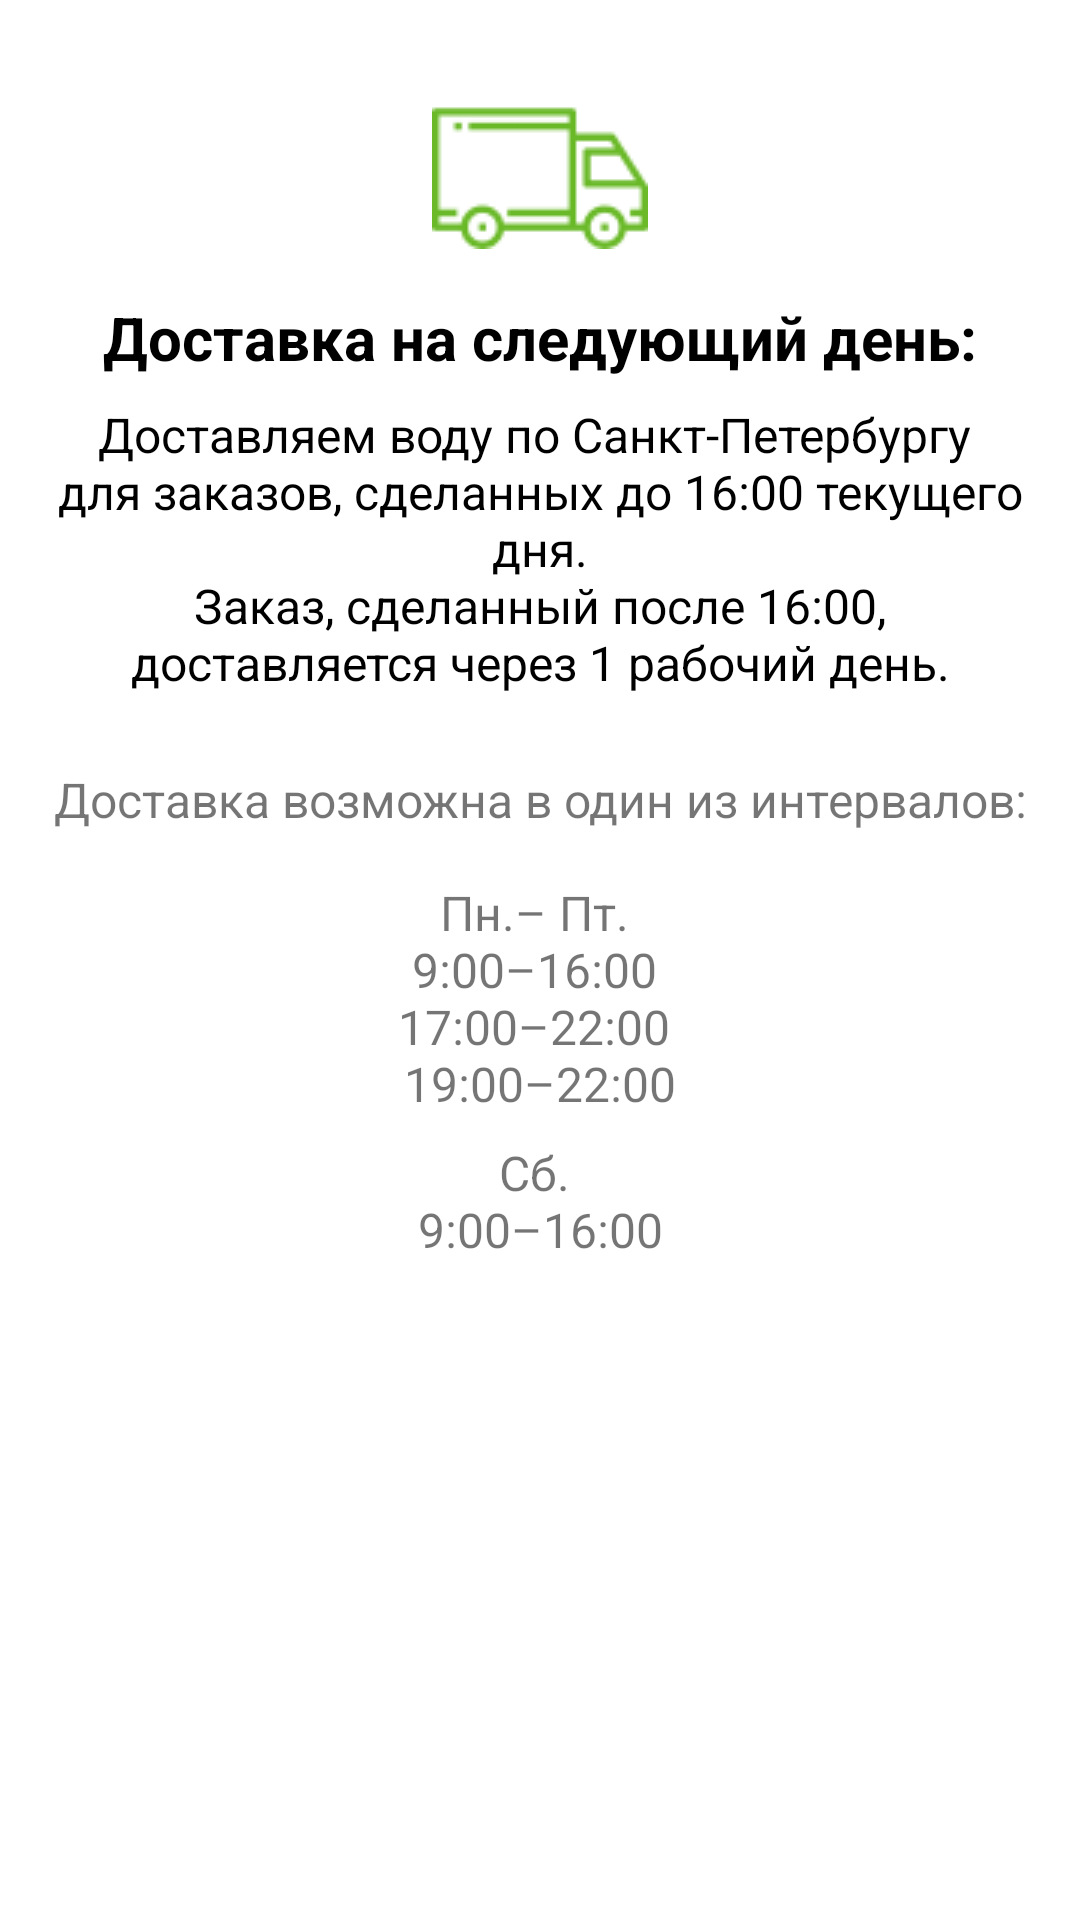

Icons on this 1080×1920 Android screen, each with the point to tap as point (x, y):
Время доставка заказов: point (540, 178)
